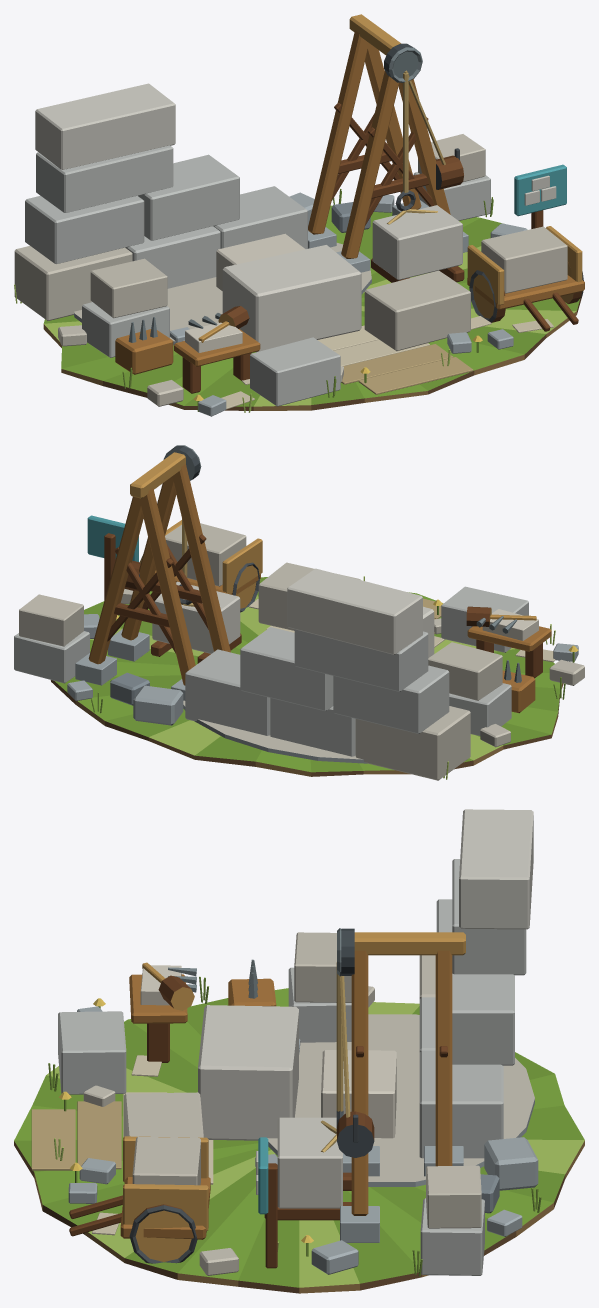
3 views of the same model, one above another, from view 1: azimuth 30°, elevation 25°; view 2: azimuth 150°, elevation 25°; view 3: azimuth 270°, elevation 25° (orthographic). The views are drawn at different scales.
Visible parts, largest first — view 1: WK_StoneQuarry_LOD0_High.001; view 2: WK_StoneQuarry_LOD0_High.001; view 3: WK_StoneQuarry_LOD0_High.001.
Boxes of the visible parts, x1,y1,x2,y2 form: WK_StoneQuarry_LOD0_High.001: (14,14,584,416); WK_StoneQuarry_LOD0_High.001: (14,445,584,780); WK_StoneQuarry_LOD0_High.001: (14,809,584,1293).
Bounding box in the file's own units: 12.95 × 5.62 × 10.34.
